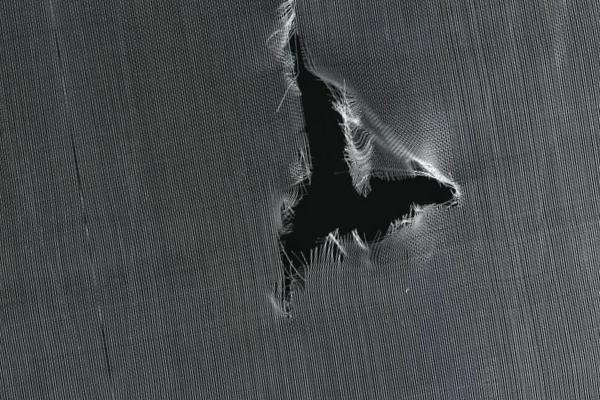hole: (264, 10, 464, 324)
